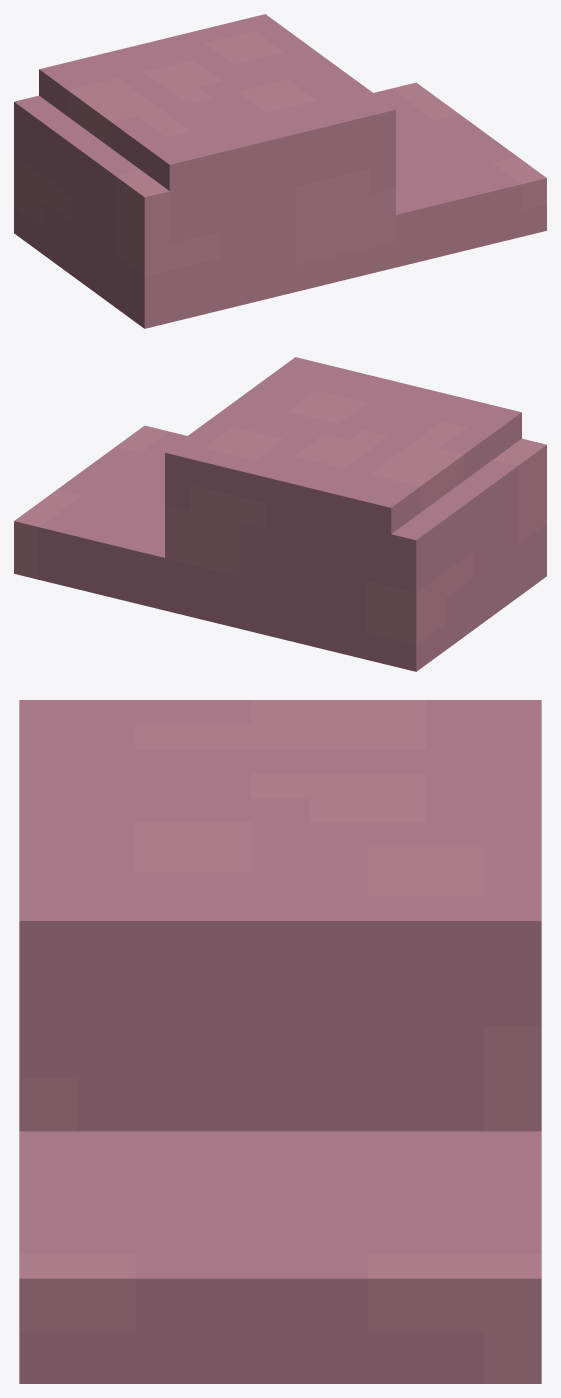
The model's file is Animals-39.obj.
The picture shows the model from 3 angles, top to bottom: view 1: azimuth 30°, elevation 25°; view 2: azimuth 150°, elevation 25°; view 3: azimuth 270°, elevation 25°; orthographic projection. The views are drawn at different scales.
Size of the model in its own units: 1.6 by 0.6 by 0.9.
1 material, 1 textured.
